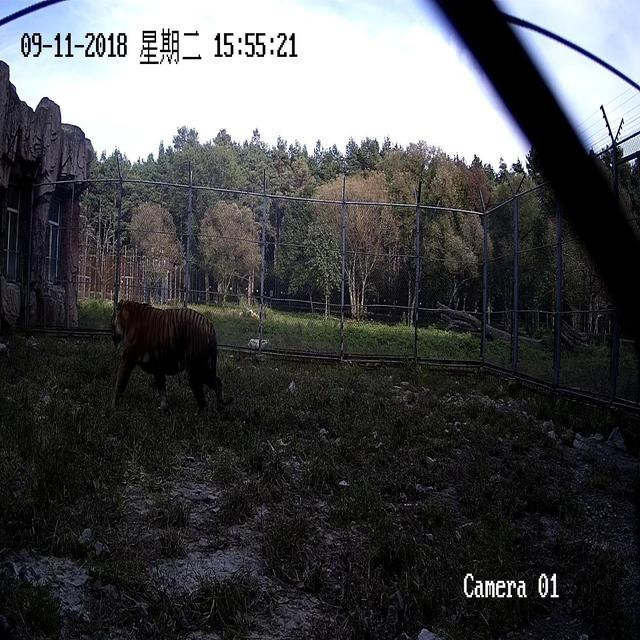tiger: (110, 297, 227, 413)
